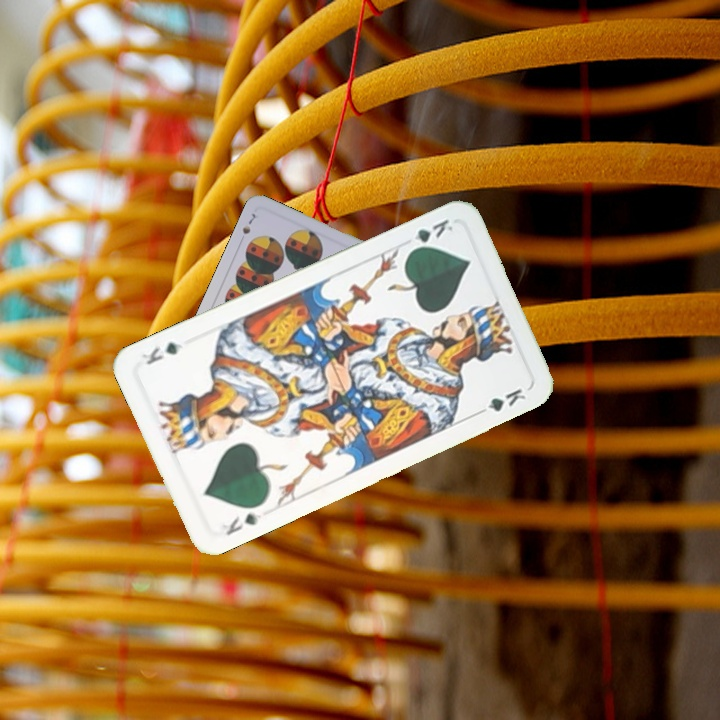GK: (404, 214, 456, 255), (217, 508, 265, 538)
S7: (238, 209, 261, 237)
